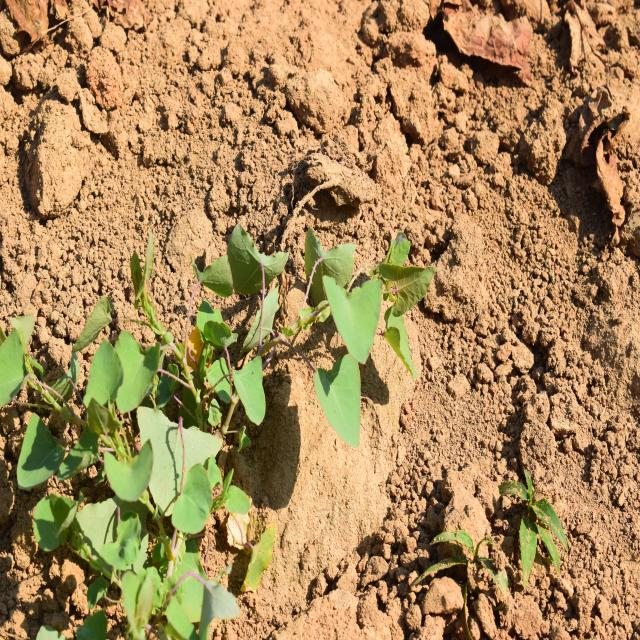Asiatic_Smartweed: (292, 224, 428, 436), (81, 248, 199, 434), (190, 234, 287, 424), (90, 432, 212, 581)
